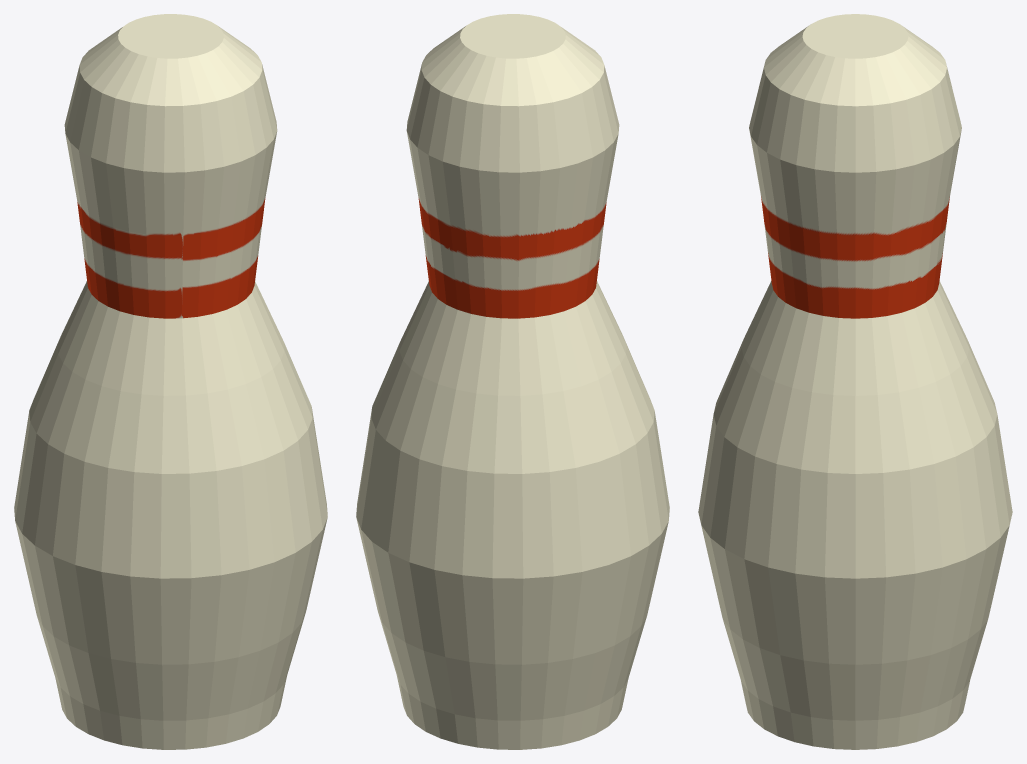
The model's file is Quille.fbx.
3 renders of one model, left to right at view 1: azimuth 30°, elevation 25°; view 2: azimuth 150°, elevation 25°; view 3: azimuth 270°, elevation 25°, orthographic.
Parts seen in each view (by area): view 1: Cylinder; view 2: Cylinder; view 3: Cylinder.
Part boxes in pixels (left/top/right/bottom): Cylinder: left=14, top=14, right=327, bottom=749; Cylinder: left=356, top=14, right=669, bottom=749; Cylinder: left=698, top=14, right=1012, bottom=749.
Size of the model in its own units: 0.7918 by 1.85 by 0.7918.
Materials: 1 (1 with a texture image).
